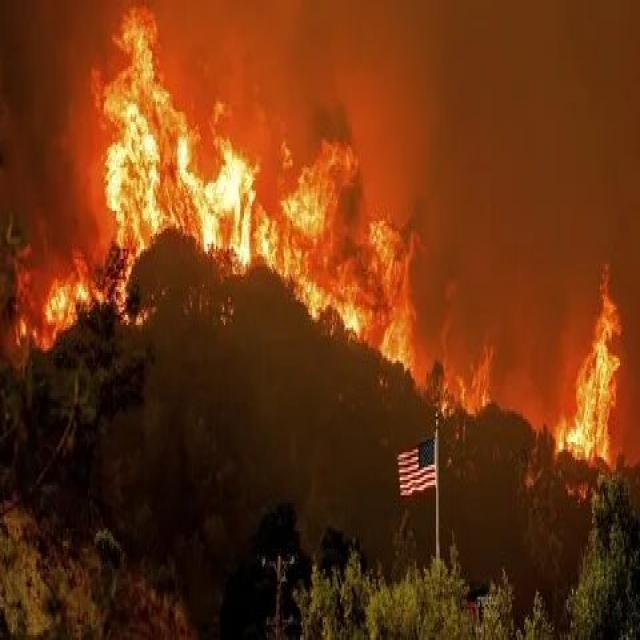Fire: (31, 41, 432, 465), (461, 283, 640, 556)
